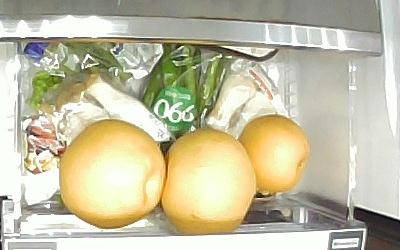pear: (58, 119, 165, 228), (162, 128, 255, 233), (238, 115, 311, 195)
